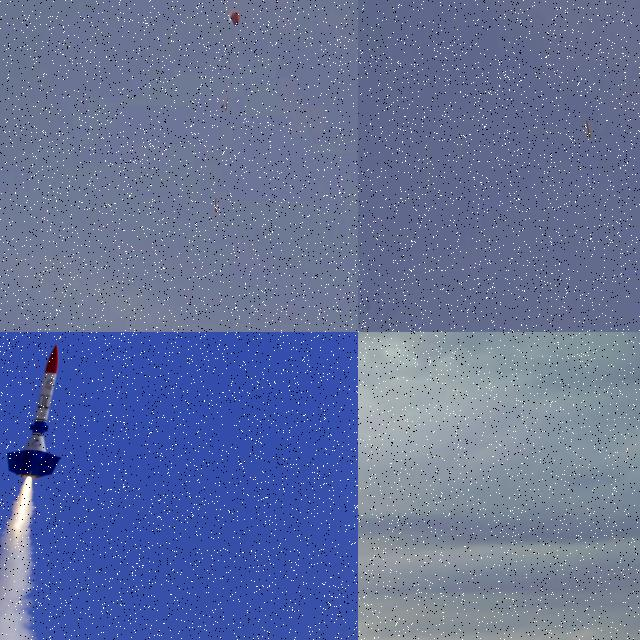Rocket: (5, 344, 64, 480), (586, 119, 592, 137), (214, 199, 217, 212)
